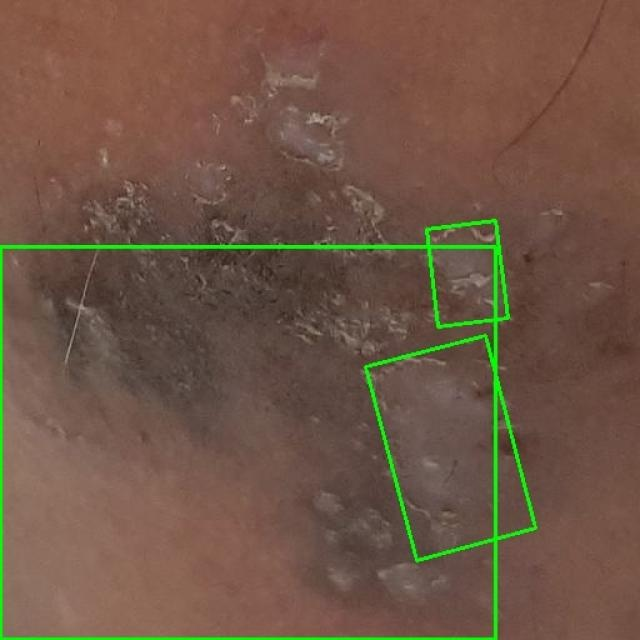Contact Dermatitis: (0, 246, 495, 639), (365, 335, 536, 560), (426, 221, 508, 327)
